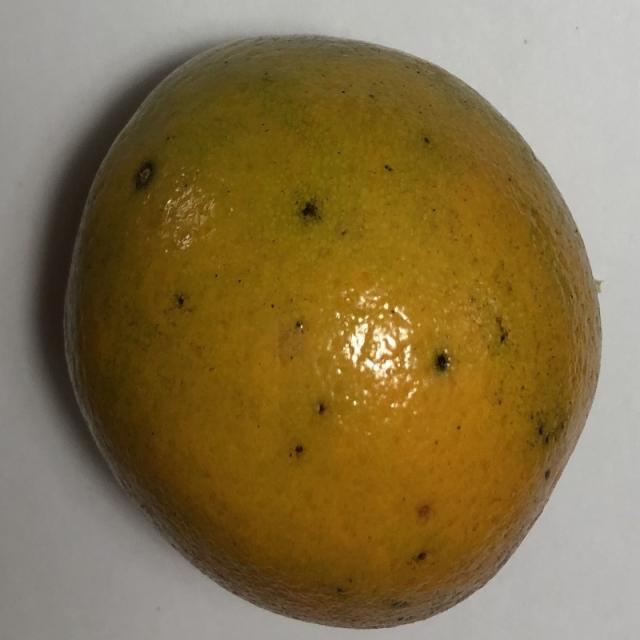black spot: (41, 24, 616, 633)
